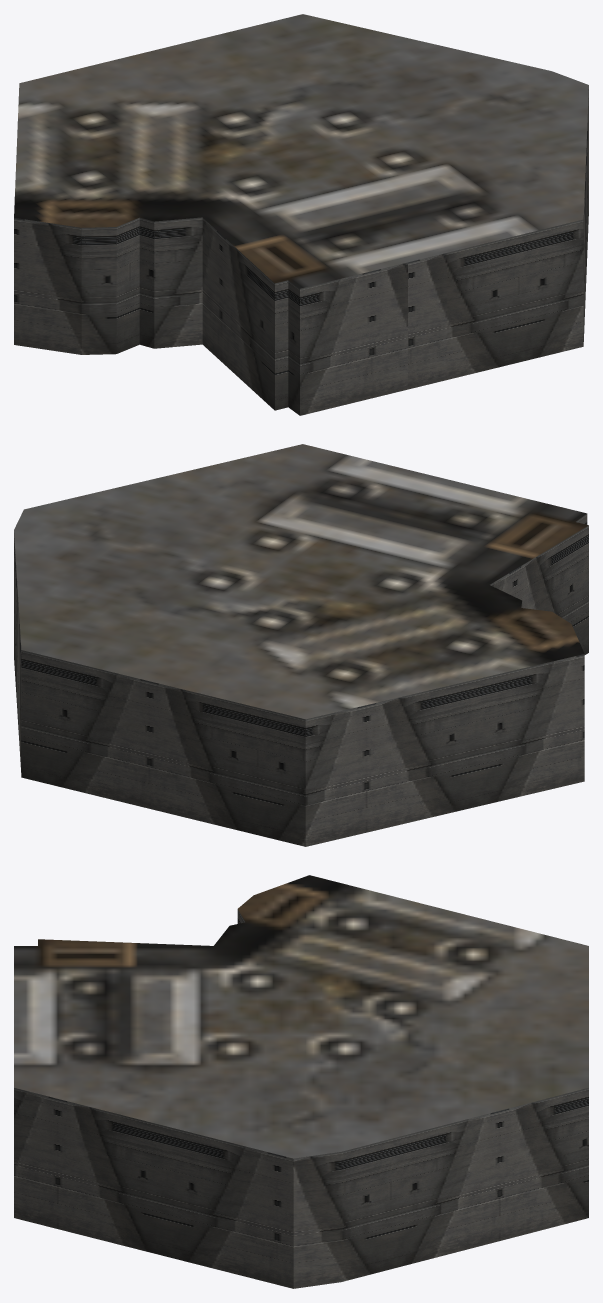
The model's file is fortress_heavy_a_47.glb.
The picture shows the model from 3 angles, top to bottom: view 1: azimuth 30°, elevation 25°; view 2: azimuth 150°, elevation 25°; view 3: azimuth 270°, elevation 25°; orthographic projection. The views are drawn at different scales.
Parts seen in each view (by area): view 1: buildings/saxarba/fortress_heavy/fortress_heavy_a_47; view 2: buildings/saxarba/fortress_heavy/fortress_heavy_a_47; view 3: buildings/saxarba/fortress_heavy/fortress_heavy_a_47.
Part boxes in pixels (<box>): buildings/saxarba/fortress_heavy/fortress_heavy_a_47: <box>14,14,588,415</box>; buildings/saxarba/fortress_heavy/fortress_heavy_a_47: <box>14,444,588,846</box>; buildings/saxarba/fortress_heavy/fortress_heavy_a_47: <box>14,875,588,1288</box>.
Size of the model in its own units: 84 by 18 by 72.
